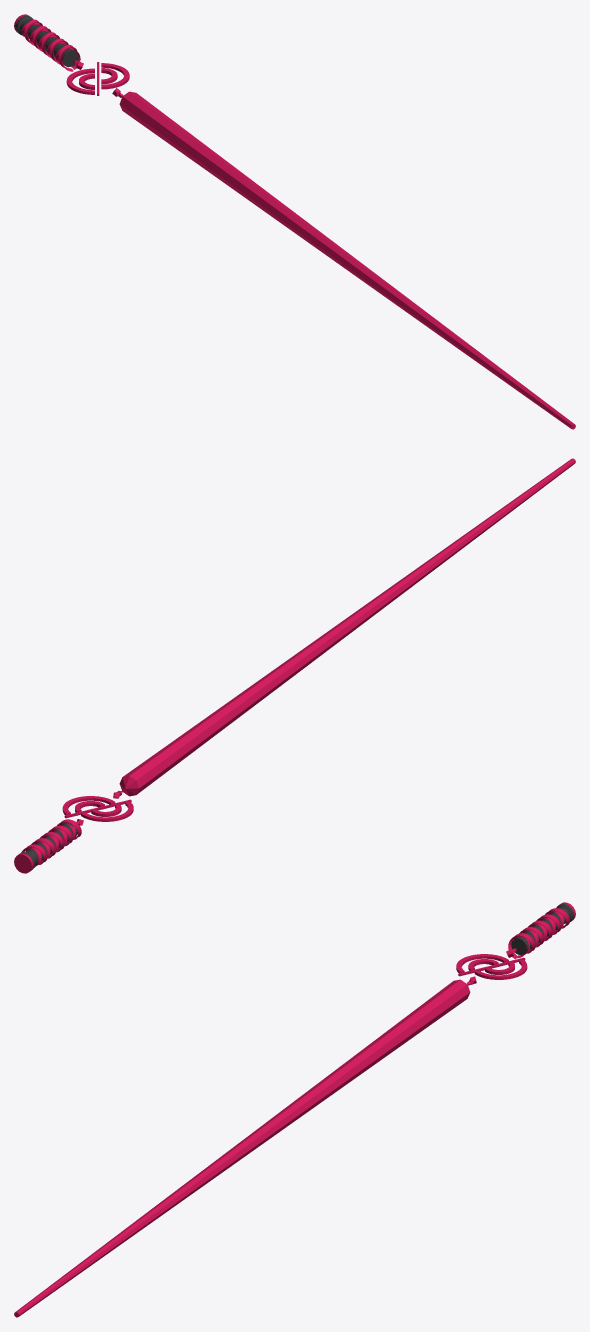
File: sc-saber.glb
3 renders of one model, top to bottom at view 1: azimuth 30°, elevation 25°; view 2: azimuth 150°, elevation 25°; view 3: azimuth 330°, elevation 25°, orthographic.
Parts seen in each view (by area): view 1: Left__Cylinder_1, Left__Cylinder_4, Left__Cylinder_3, Left__Cylinder_0; view 2: Left__Cylinder_1, Left__Cylinder_4, Left__Cylinder_3; view 3: Left__Cylinder_1, Left__Cylinder_4, Left__Cylinder_3, Left__Cylinder_0.
Part boxes in pixels (<box>): Left__Cylinder_1: <box>14,14,575,429</box>; Left__Cylinder_4: <box>66,62,129,95</box>; Left__Cylinder_3: <box>24,19,76,71</box>; Left__Cylinder_0: <box>15,15,78,67</box>; Left__Cylinder_1: <box>14,458,575,873</box>; Left__Cylinder_4: <box>62,796,133,821</box>; Left__Cylinder_3: <box>21,819,81,864</box>; Left__Cylinder_1: <box>14,902,575,1317</box>; Left__Cylinder_4: <box>456,954,527,979</box>; Left__Cylinder_3: <box>508,908,569,959</box>; Left__Cylinder_0: <box>511,903,574,955</box>.
Size of the model in its own units: 0.0729 by 0.0243 by 1.17.
